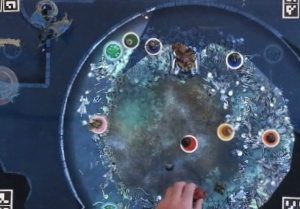blue: (225, 49, 245, 70)
green: (122, 29, 142, 50)
orange: (258, 126, 282, 151)
pink: (88, 112, 109, 136)
red: (179, 131, 201, 154)
violet: (145, 36, 165, 58)
yellow: (216, 122, 237, 141)
